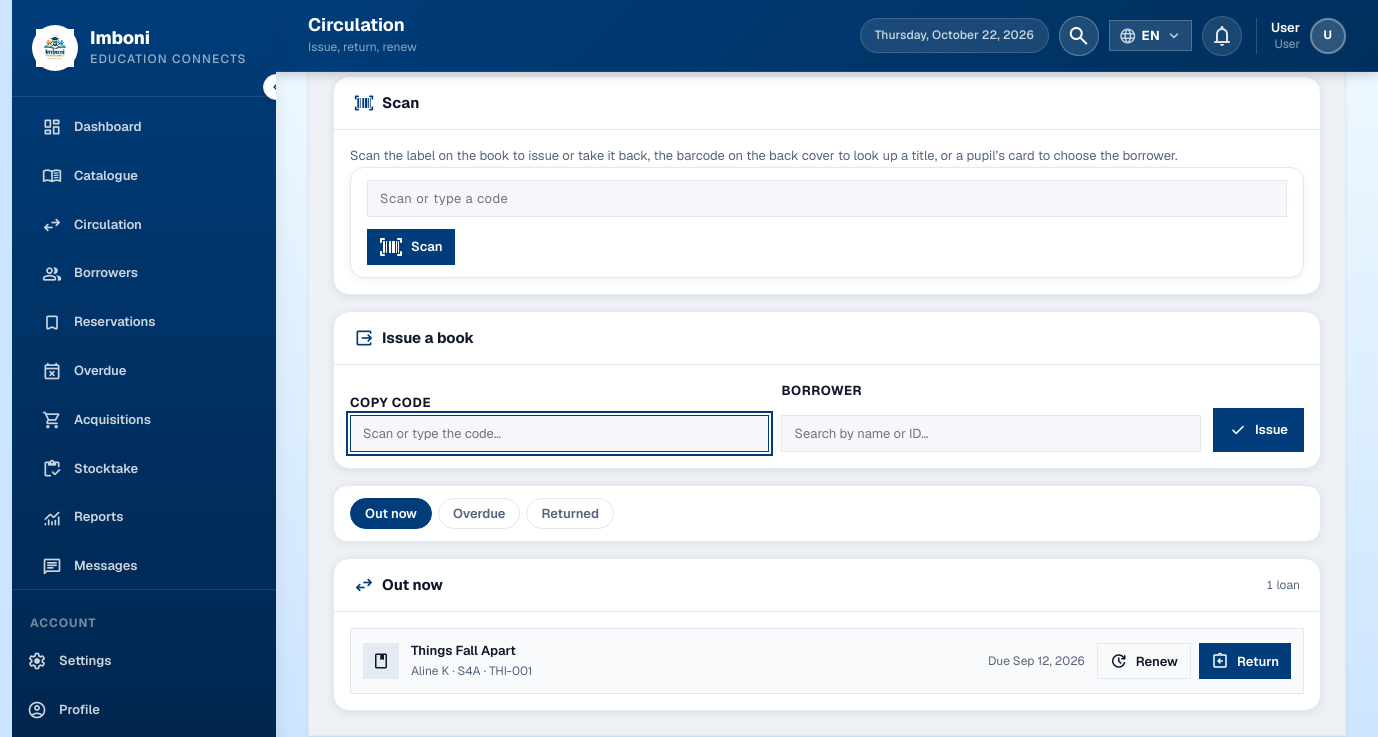
LibraryCirculation › tells the desk to put a returned book aside when somebody is waiting
(page scrolled)
Check: the text "Things Fall Apart" is shown, box [411,642,516,659]
Click the button "Return": (1245, 661) [1199,643,1291,679]
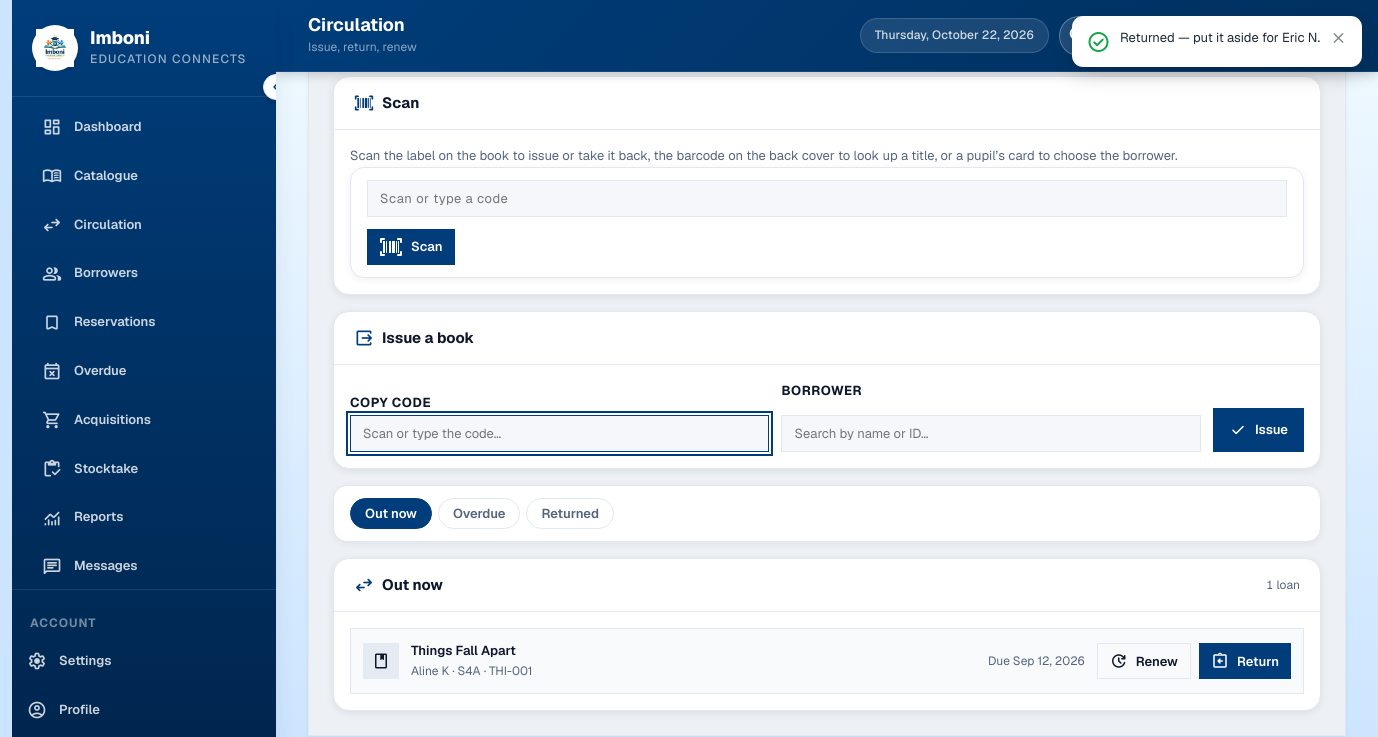
Check: the text "Returned — put it aside for Eric N." is shown, box [1120,29,1320,47]
